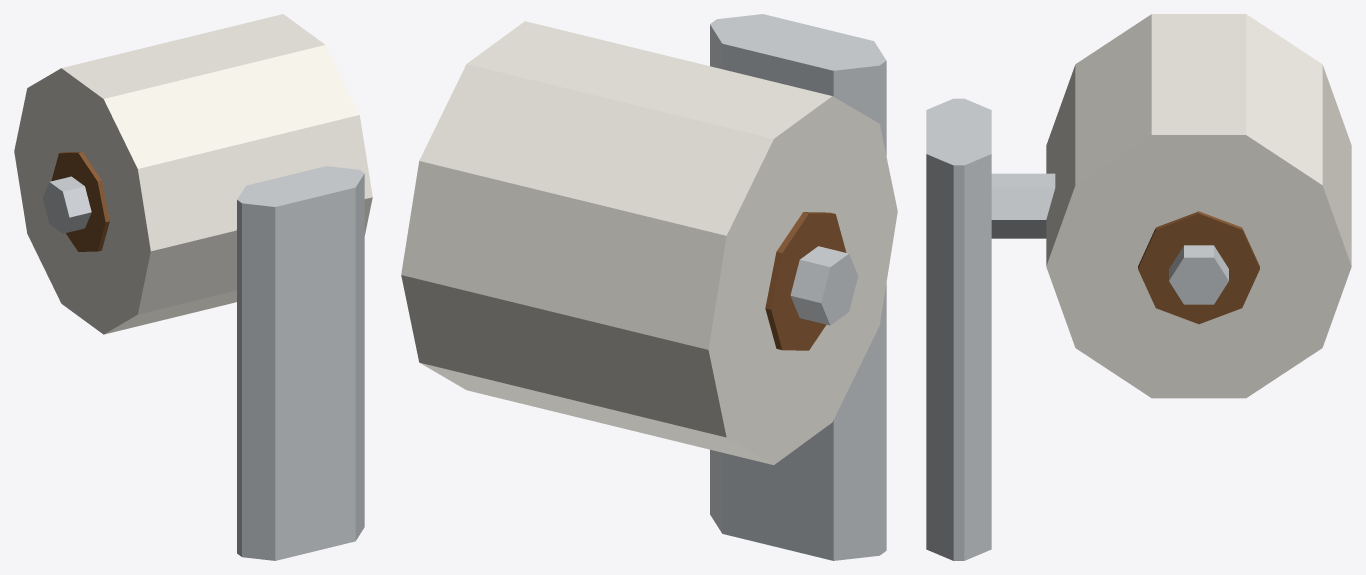
Rendered from SM_LPI_Bath_RollHolder_01.fbx.
The picture shows the model from 3 angles, left to right: view 1: azimuth 30°, elevation 25°; view 2: azimuth 150°, elevation 25°; view 3: azimuth 270°, elevation 25°; orthographic projection. The views are drawn at different scales.
Visible parts, largest first — view 1: SM_LPI_Bath_RollHolder_01; view 2: SM_LPI_Bath_RollHolder_01; view 3: SM_LPI_Bath_RollHolder_01.
Part boxes in pixels (box(x1,y1,x2,y2)): SM_LPI_Bath_RollHolder_01: box(14, 14, 372, 560); SM_LPI_Bath_RollHolder_01: box(401, 14, 897, 560); SM_LPI_Bath_RollHolder_01: box(926, 14, 1351, 560).
Bounding box in the file's own units: 0.13 × 0.1833 × 0.156.
